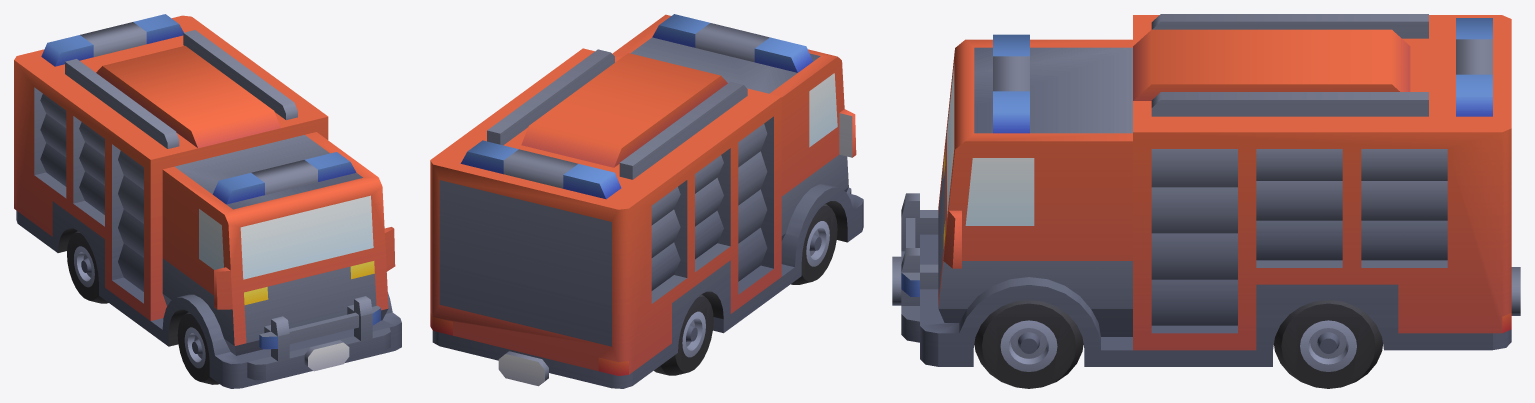
3 renders of one model, left to right at view 1: azimuth 30°, elevation 25°; view 2: azimuth 150°, elevation 25°; view 3: azimuth 270°, elevation 25°, orthographic. The views are drawn at different scales.
Parts seen in each view (by area): view 1: body, grill, wheel-front-right, wheel-back-right; view 2: body, wheel-back-right, wheel-front-right; view 3: body, wheel-front-left, wheel-back-left, grill.
Boxes of the visible parts, box(x1,y1,x2,y2) form: body: box(14, 14, 401, 388); grill: box(247, 296, 390, 380); wheel-front-right: box(177, 312, 219, 384); wheel-back-right: box(67, 230, 108, 303); body: box(430, 14, 863, 388); wheel-back-right: box(654, 294, 713, 375); wheel-front-right: box(791, 203, 837, 284); body: box(920, 14, 1520, 366); wheel-front-left: box(974, 300, 1083, 388); wheel-back-left: box(1274, 300, 1382, 388); grill: box(892, 193, 938, 342).
Size of the model in its own units: 1.5 by 1.7 by 3.4.
Materials: 1 (1 with a texture image).
